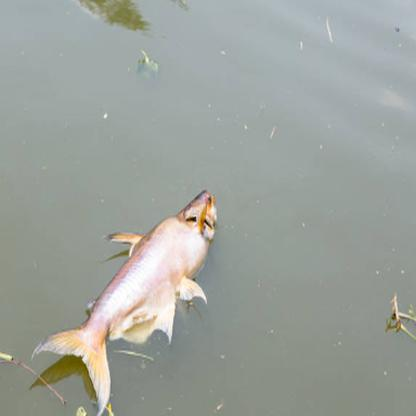deceased fish: (34, 186, 220, 411)
